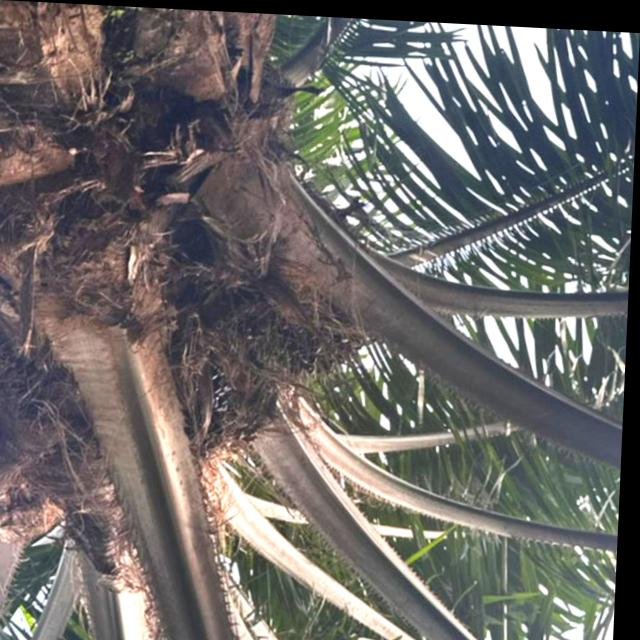unripe: (223, 248, 392, 402)
